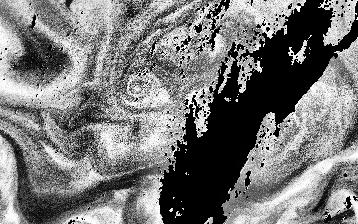CE: (119, 70, 156, 105)
